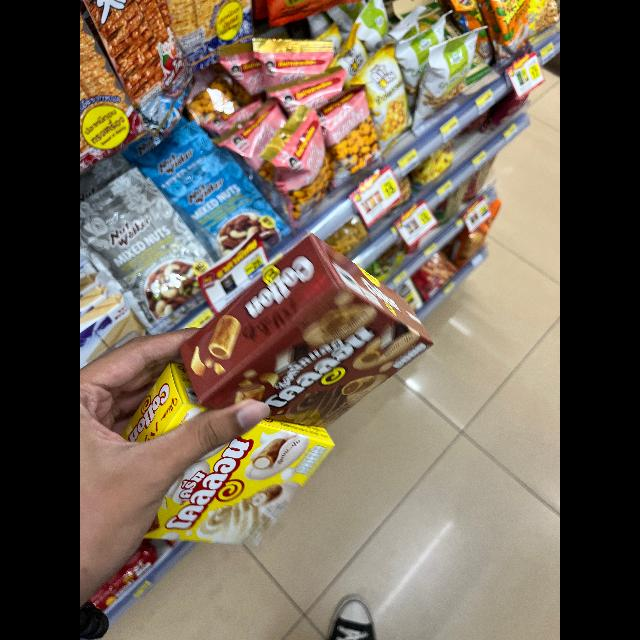cardboard_box: (170, 235, 470, 425), (104, 343, 336, 581)
